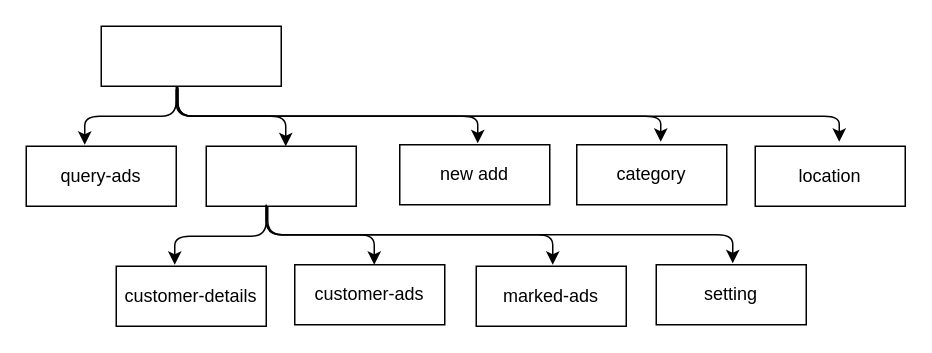
This 932x353 diagram has some shape labels left out. Here are the shapes that lost their labels. From the top down, the box of each, then its label:
(100, 25, 281, 86): site map
(205, 145, 356, 206): my-info
